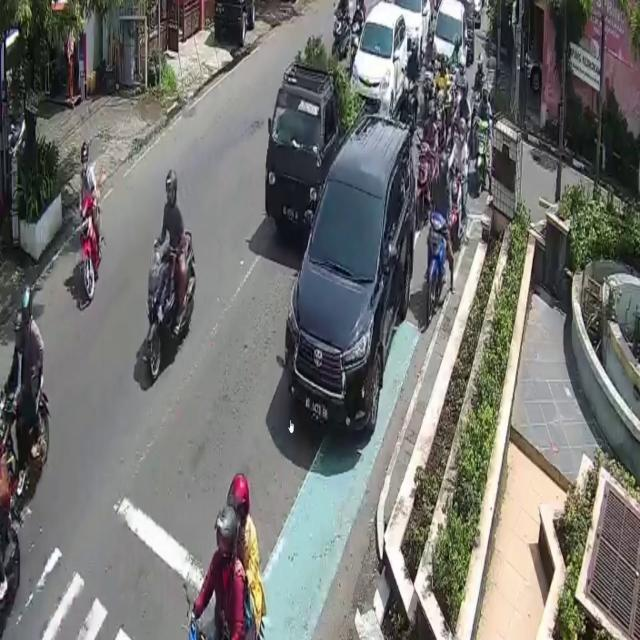car: (286, 112, 414, 436), (267, 66, 367, 236), (358, 0, 409, 84), (434, 0, 468, 95), (394, 0, 431, 58)
motorbike: (146, 228, 194, 380), (81, 199, 102, 304), (428, 213, 448, 319), (474, 118, 494, 198)
